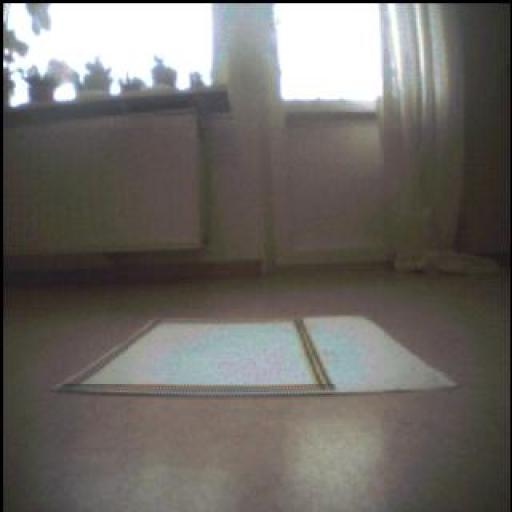Pad: (59, 318, 456, 396)
